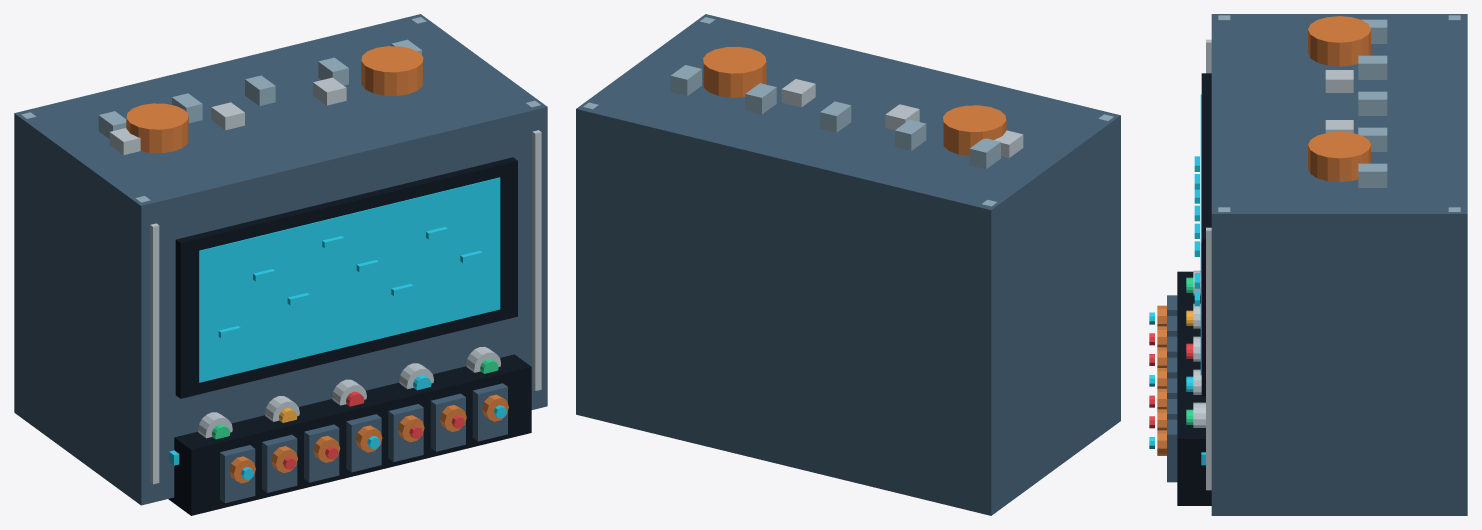
Rendered from 49_L73_PlatenCarrierMotionController.fbx.
3 renders of one model, left to right at view 1: azimuth 30°, elevation 25°; view 2: azimuth 150°, elevation 25°; view 3: azimuth 270°, elevation 25°, orthographic. The views are drawn at different scales.
Visible parts, largest first — view 1: PlatenCarrierMotionController; view 2: PlatenCarrierMotionController; view 3: PlatenCarrierMotionController.
Boxes of the visible parts, box(x1,y1,x2,y2) form: PlatenCarrierMotionController: box(14, 14, 547, 515); PlatenCarrierMotionController: box(576, 14, 1120, 515); PlatenCarrierMotionController: box(1149, 14, 1467, 515).
Bounding box in the file's own units: 135 × 104 × 90.73.
